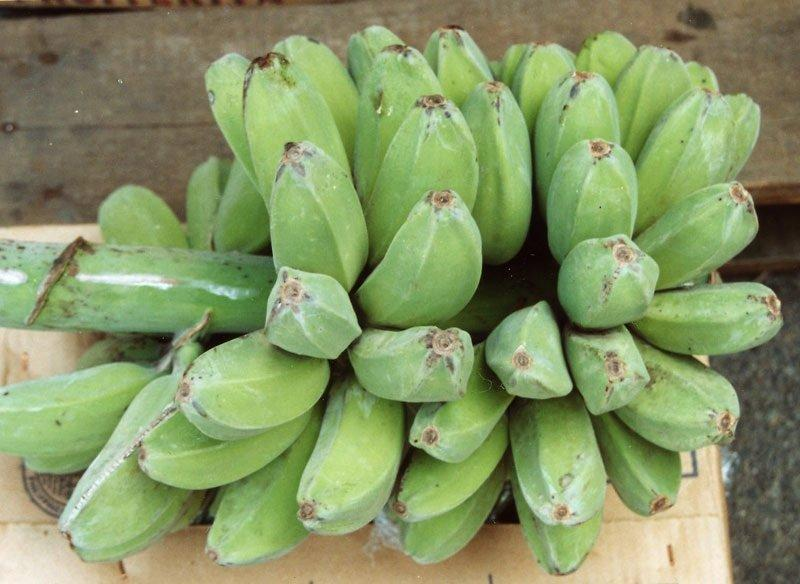Banana Unripe: (4, 6, 800, 559)
